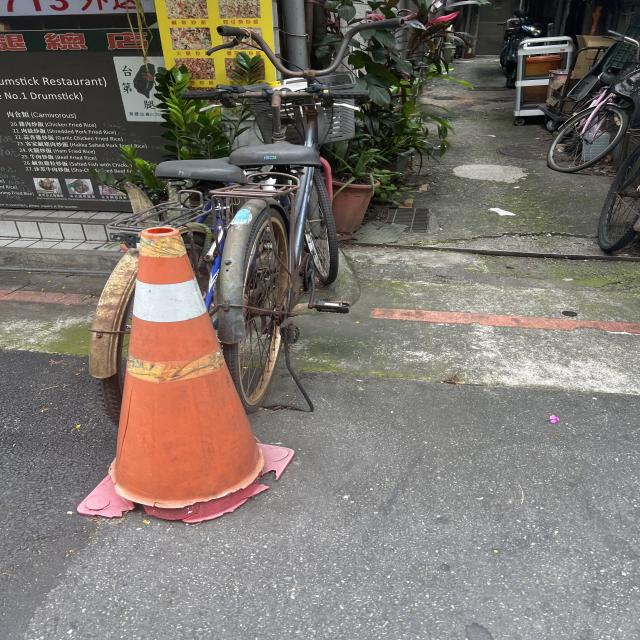bicycle: (201, 11, 370, 402)
cone: (91, 227, 253, 502)
